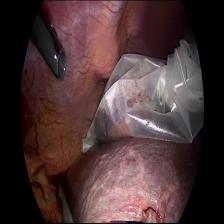Specimen Bag: (77, 44, 201, 162)
